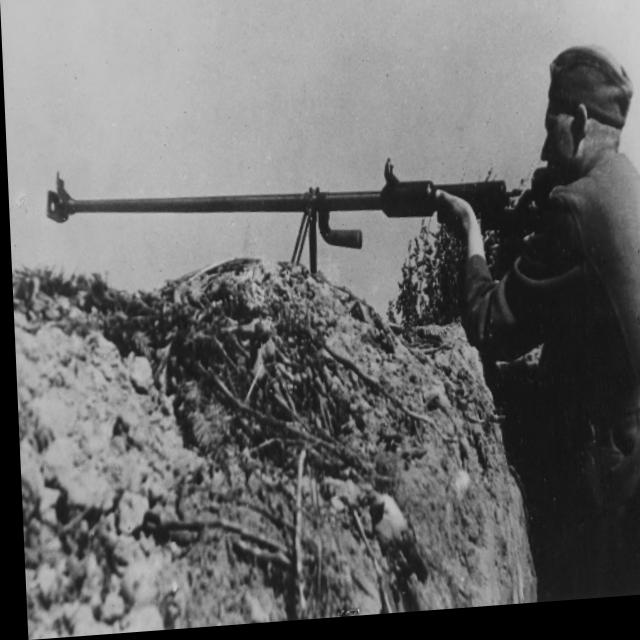other: (471, 16, 640, 551)
